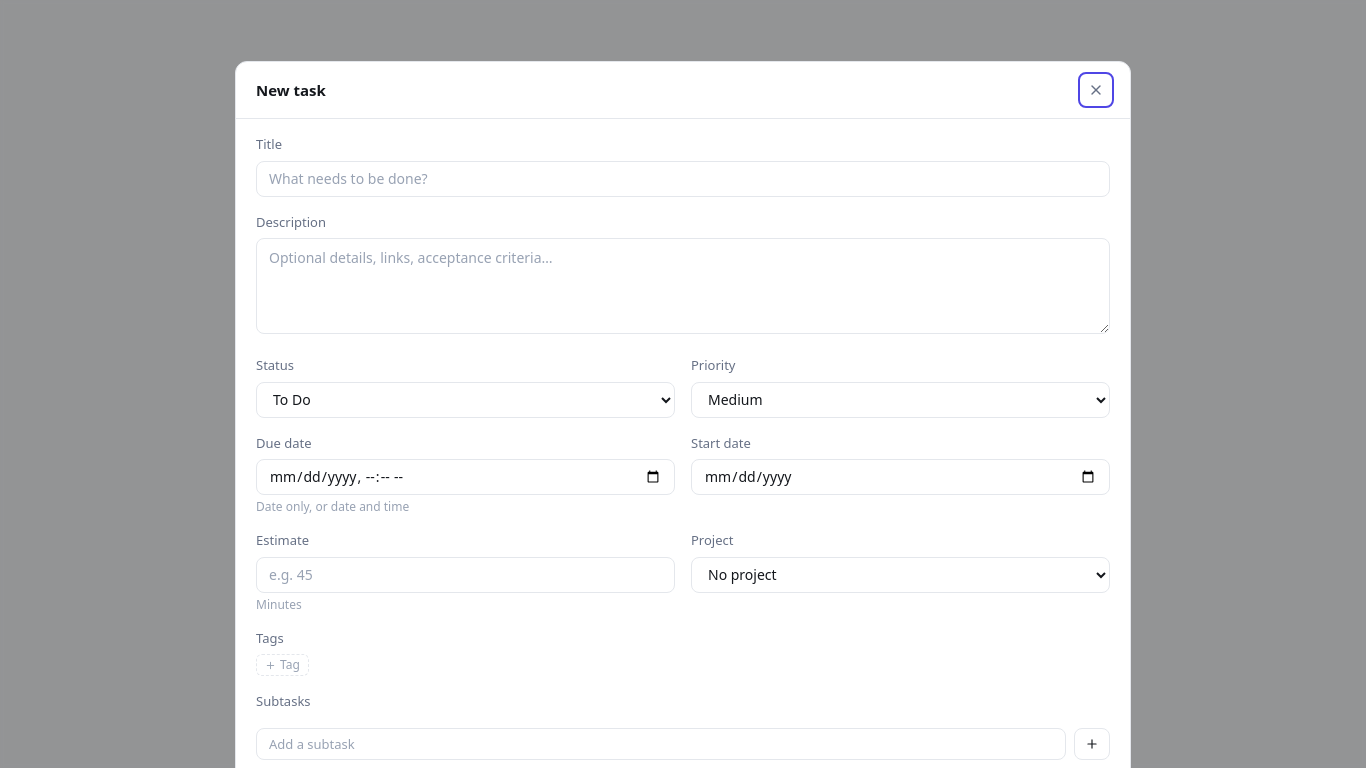
Test case: creating a task › rejects an invalid estimate
This screenshot has width=1366, height=768.
Type "Anything" into the field labelled "Title" at (683, 179), box [256, 161, 1110, 197]
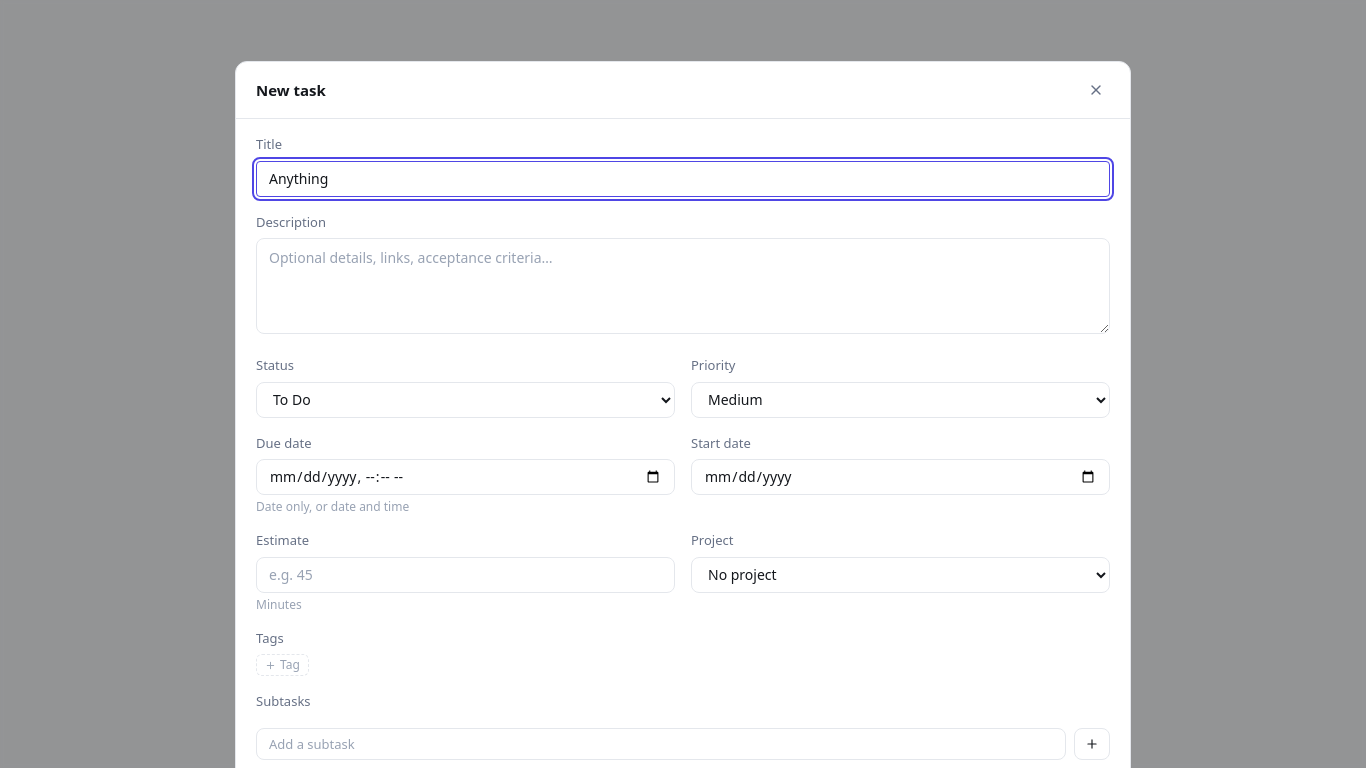
Type "0" into the number field labelled "Estimate" at (466, 575), box [256, 557, 675, 593]
(page scrolled)
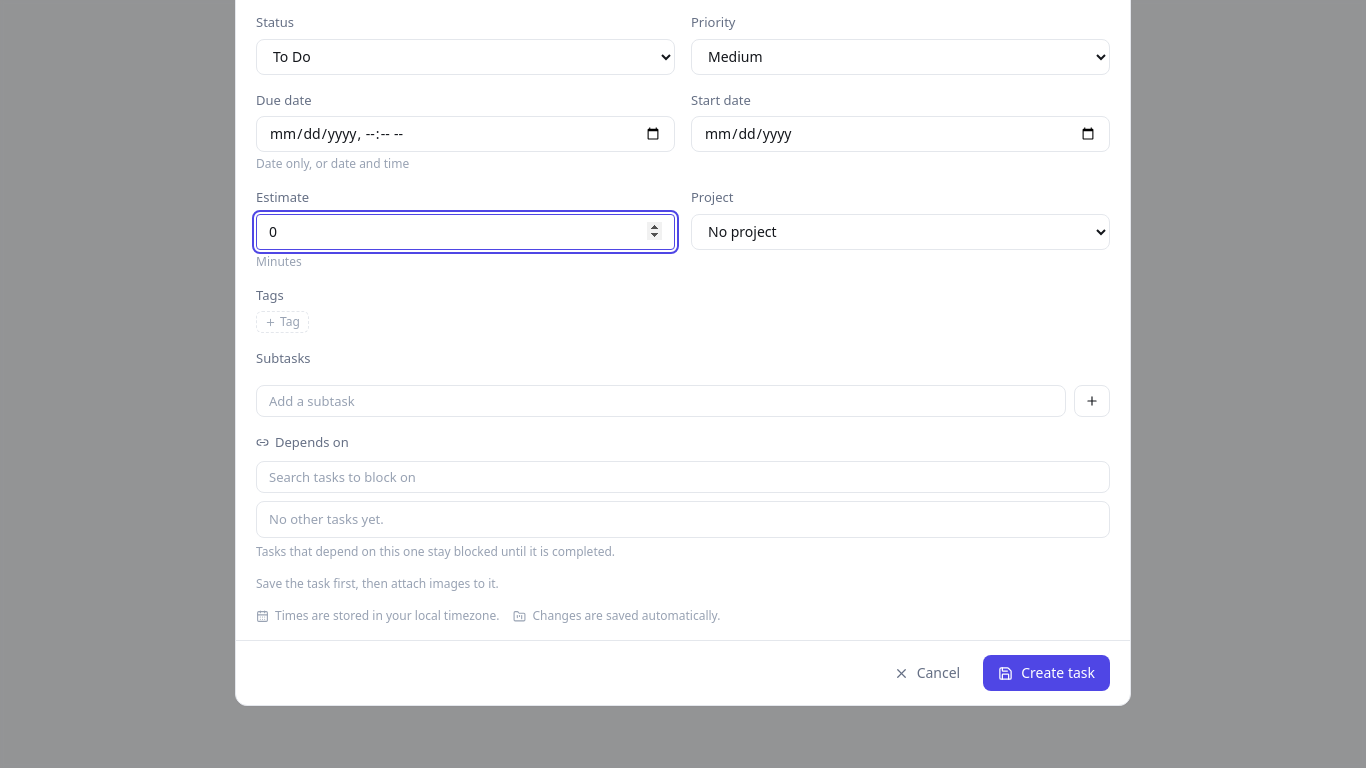
Click the button "Create task" at (1047, 673), box [983, 655, 1110, 691]
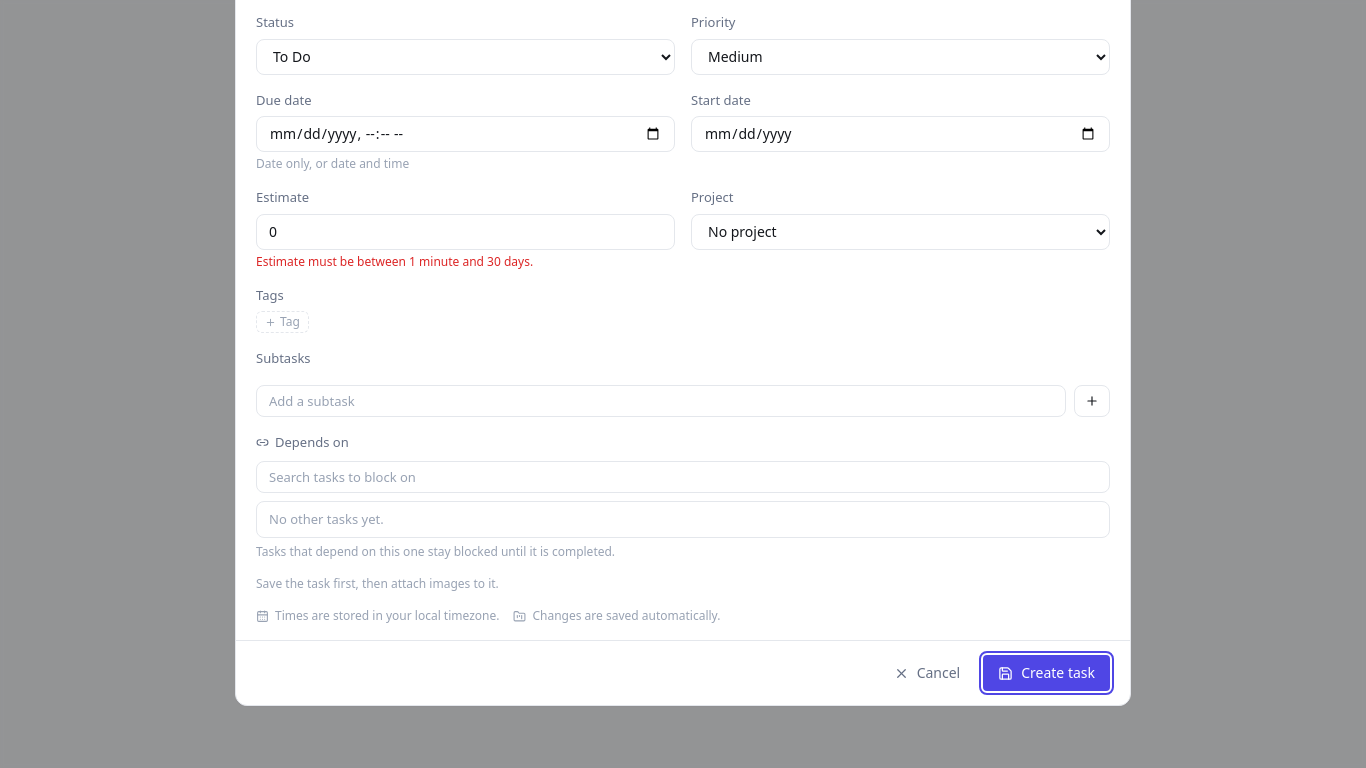
Expected: the message shows "between 1 minute and 30 days", [256, 253, 533, 270]
